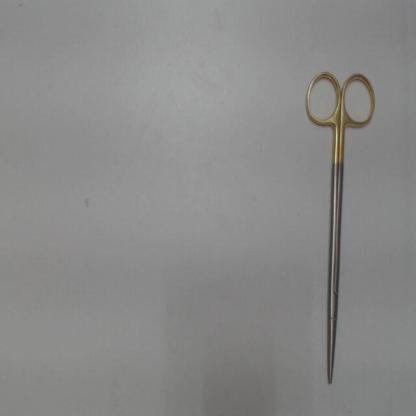7 Metzenbaum Scissors: (303, 66, 380, 389)
